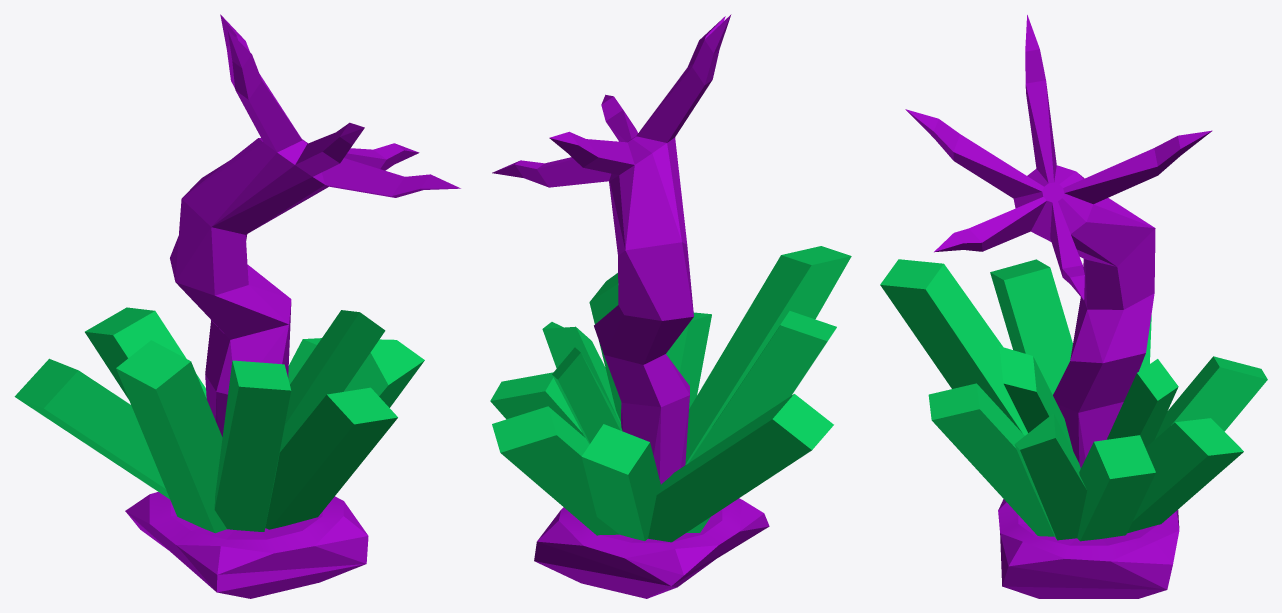
Rendered from PulsePlant.fbx.
3 views of the same model, side by side, from view 1: azimuth 30°, elevation 25°; view 2: azimuth 150°, elevation 25°; view 3: azimuth 270°, elevation 25° (orthographic). The views are drawn at different scales.
Parts seen in each view (by area): view 1: Cube_10; view 2: Cube_10; view 3: Cube_10.
Boxes of the visible parts, bbox=[...] form: Cube_10: bbox=[14, 14, 460, 598]; Cube_10: bbox=[490, 14, 851, 598]; Cube_10: bbox=[880, 15, 1267, 598].
Size of the model in its own units: 34.76 by 51.93 by 33.79.
